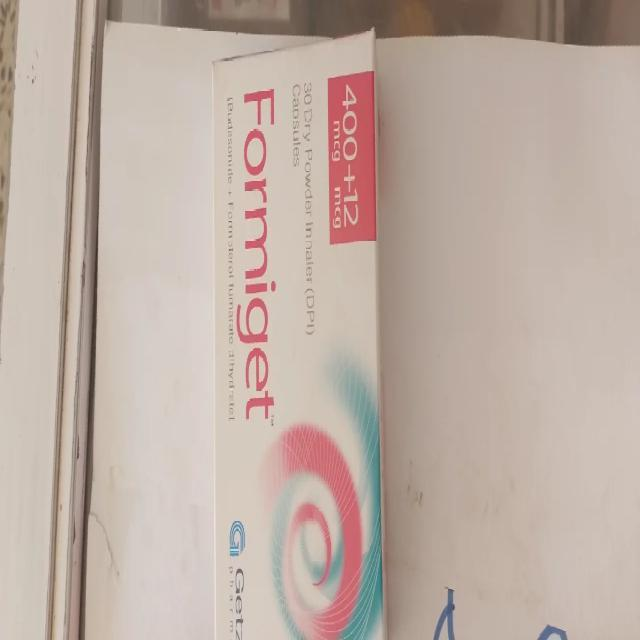drug-name: (235, 80, 276, 424)
